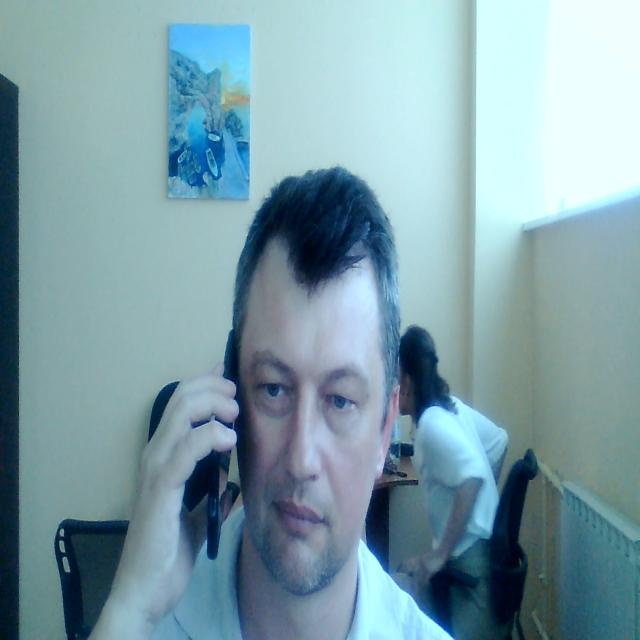phone: (207, 328, 240, 563)
